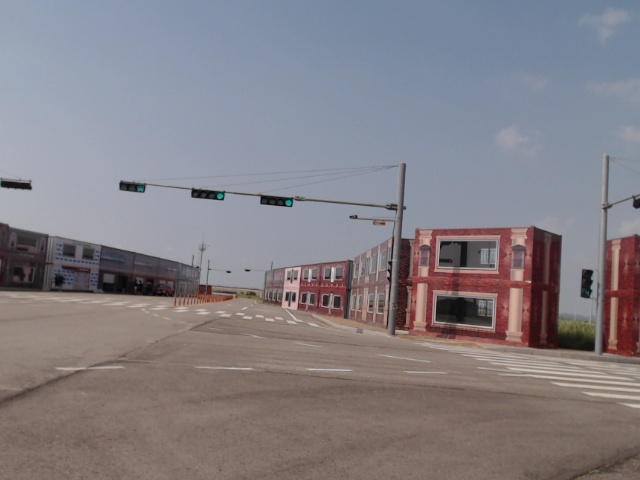straight_green_4: (192, 189, 225, 201), (260, 195, 291, 207)
